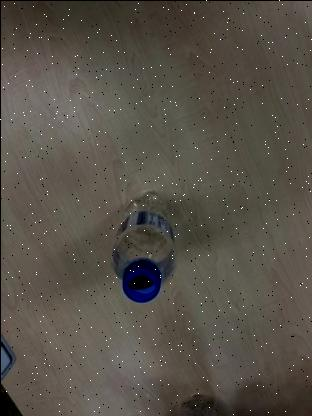Plastic Bottle: (109, 181, 176, 307)
